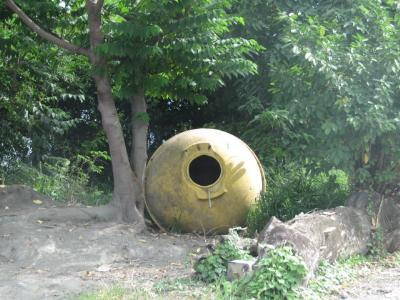water_tower: (142, 127, 268, 237)
